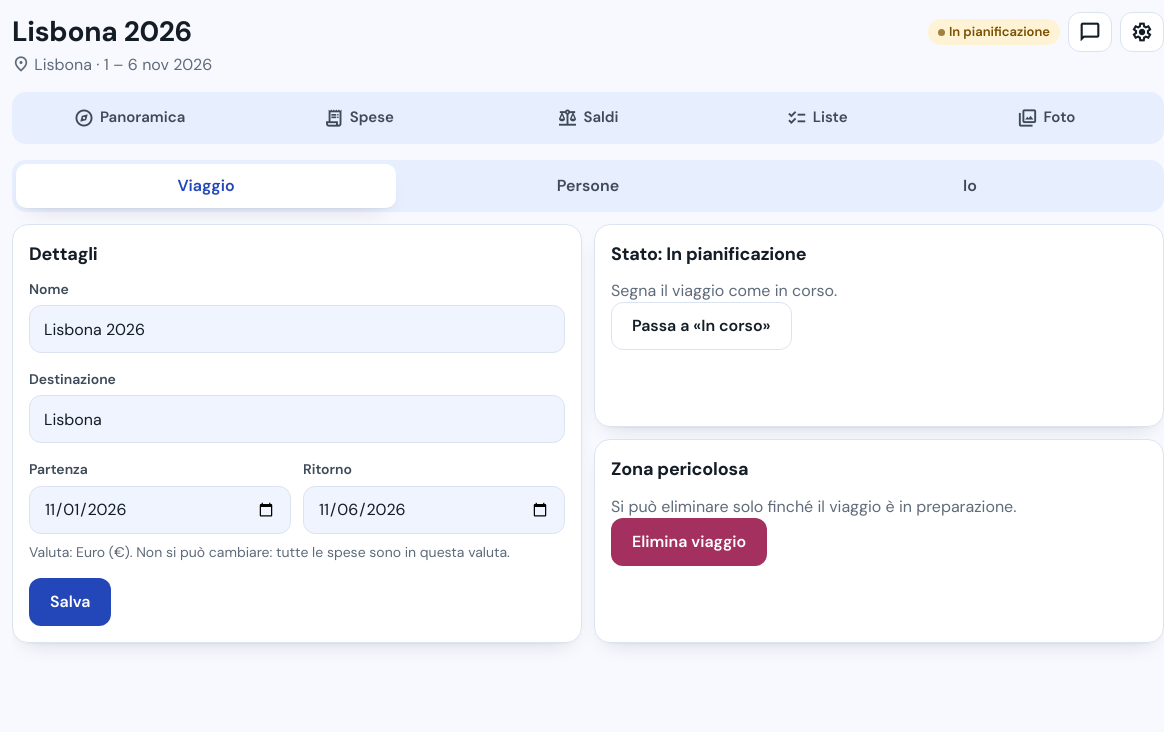
Test case: l’organizzatore modifica il viaggio e non può lasciarlo
The image size is (1164, 732).
Expected: the tab "Viaggio" is shown, [16,164,396,208]
Replace the text in the field labelled "Nome" with "Lisbona a novembre" at [297, 329], box [29,305,565,353]
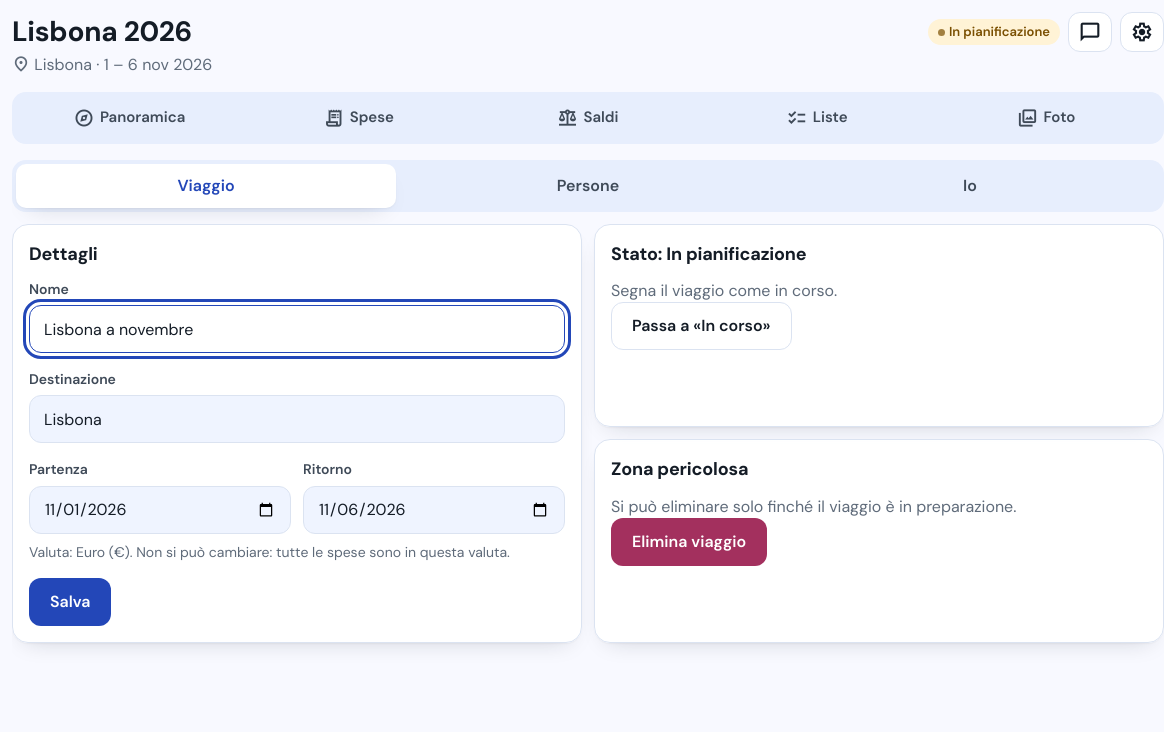
Click the button "Salva" at [70, 602], box [29,578,111,626]
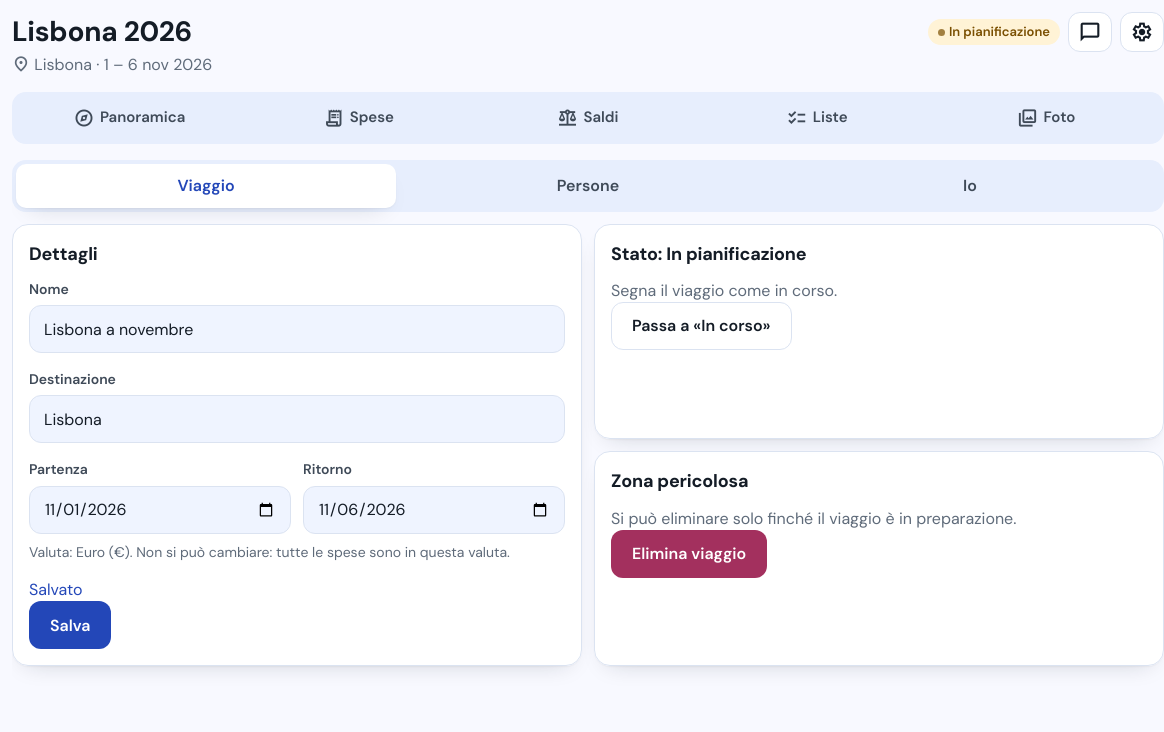
Expected: the button "Elimina viaggio" is shown, [611,529,767,577]
Click the tab "Io" at [970, 186], box [780,164,1160,208]
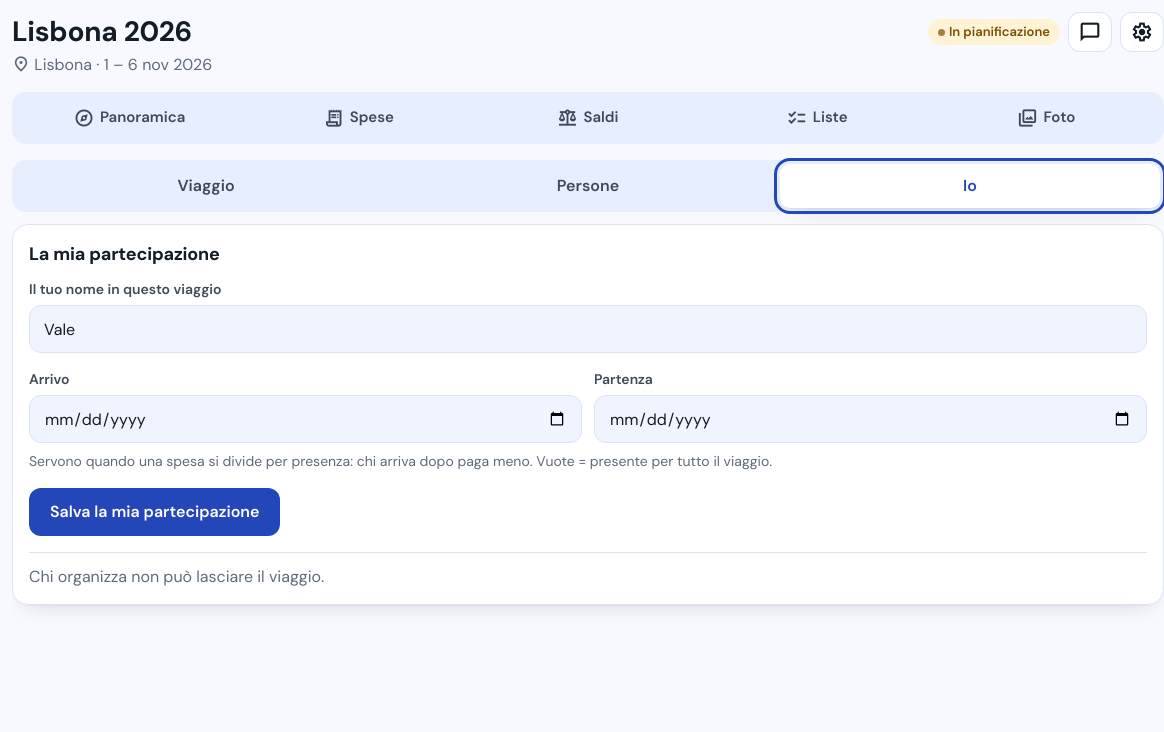
Result: the text "Chi organizza non può lasciare il viaggio." is shown at [29,566,324,587]
